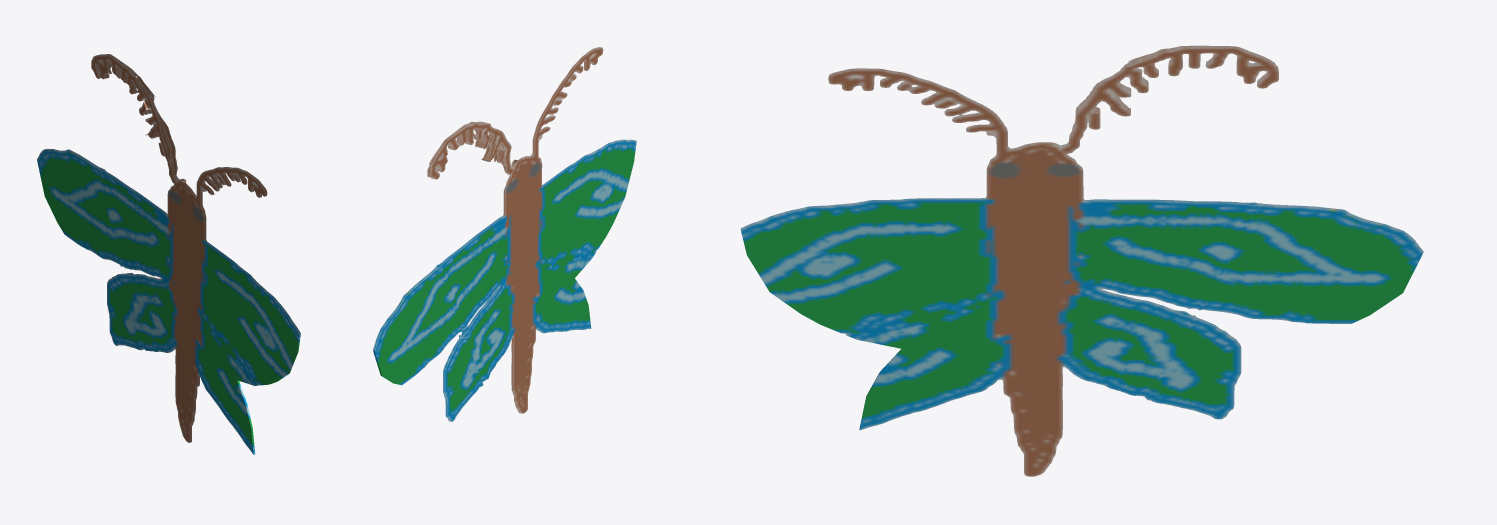
The model's file is thenew_moth.fbx.
3 views of the same model, side by side, from view 1: azimuth 30°, elevation 25°; view 2: azimuth 150°, elevation 25°; view 3: azimuth 270°, elevation 25° (orthographic). The views are drawn at different scales.
Visible parts, largest first — view 1: moth_green; view 2: moth_green; view 3: moth_green.
Boxes of the visible parts, box(x1,y1,x2,y2) form: moth_green: box(37, 54, 300, 454); moth_green: box(373, 47, 636, 421); moth_green: box(740, 45, 1423, 476).
Bounding box in the file's own units: 0.024 × 0.9638 × 1.4.
1 material, 1 textured.
